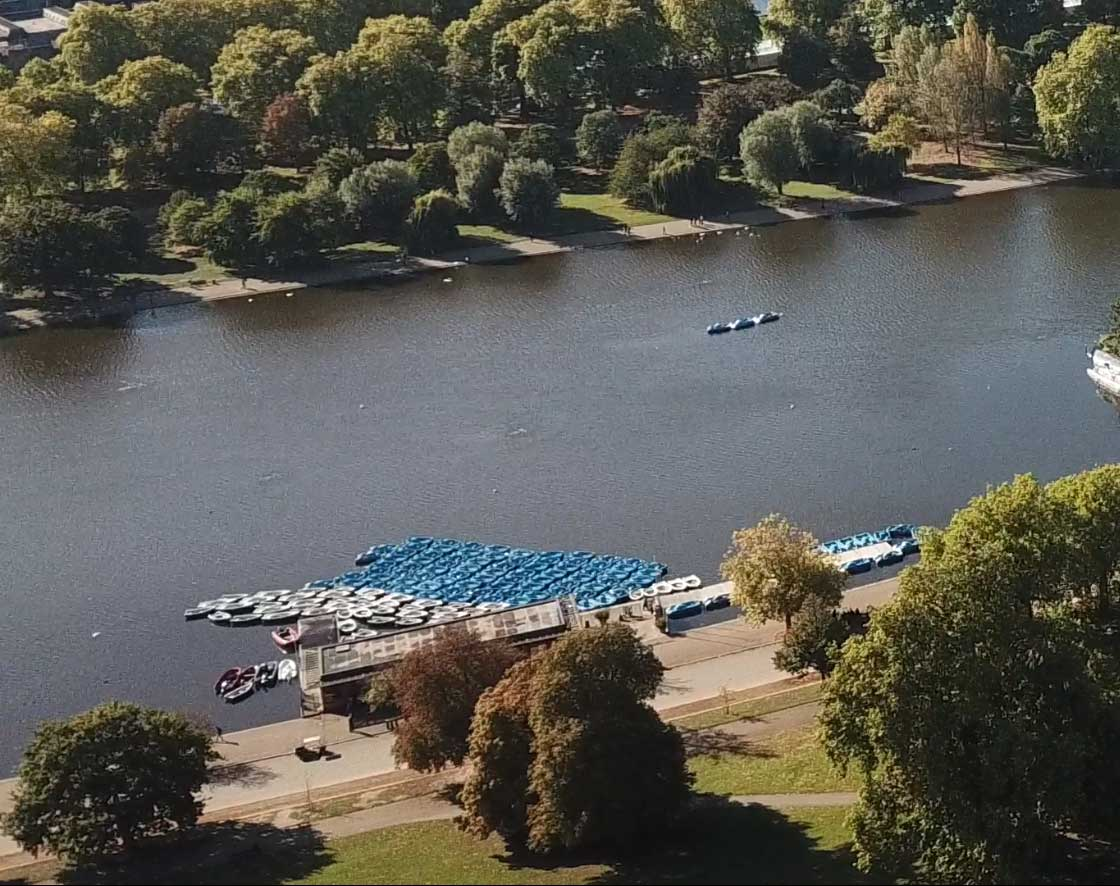tree: (5, 695, 237, 882), (713, 512, 849, 650), (742, 111, 820, 211)
water: (606, 263, 1071, 452), (71, 341, 552, 494), (375, 290, 566, 501), (13, 376, 182, 591), (946, 222, 1115, 262), (570, 467, 693, 498)
